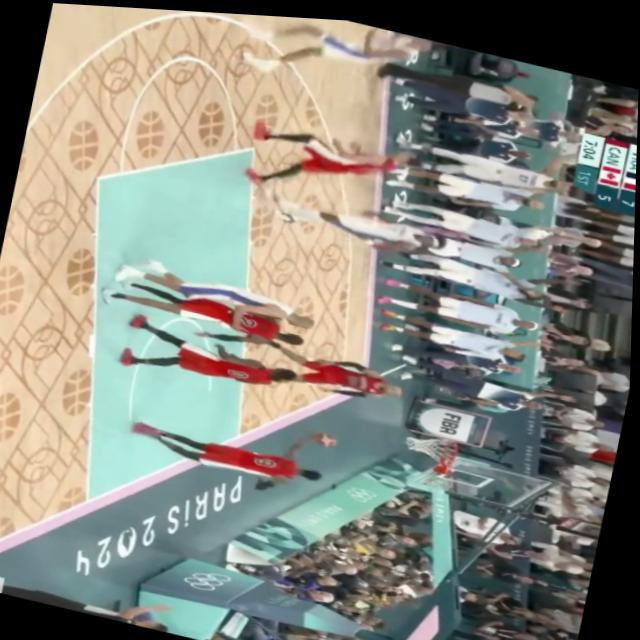ball_handler: (116, 382, 349, 508)
